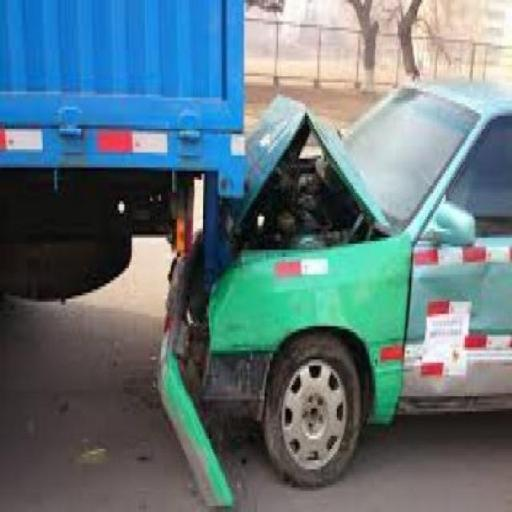小汽车撞小汽车: (8, 77, 510, 480)
